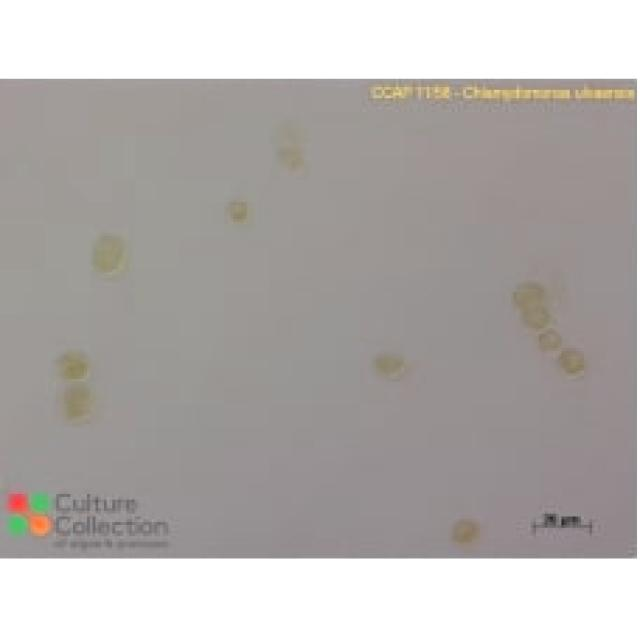Green Algae: (90, 239, 126, 275), (64, 388, 96, 418), (561, 348, 587, 379), (452, 516, 483, 542), (520, 300, 548, 328), (224, 200, 250, 228), (62, 351, 90, 376), (539, 328, 564, 351)
